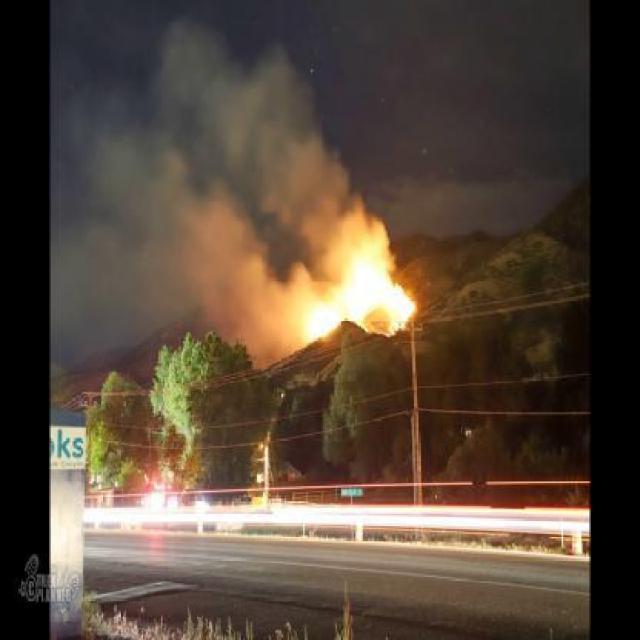Fire: (300, 243, 420, 351)
